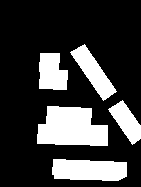parkingspot: (70, 44, 116, 100), (52, 159, 126, 180), (37, 124, 107, 145), (108, 100, 141, 144), (46, 106, 91, 126), (39, 70, 67, 89), (39, 53, 59, 72)
